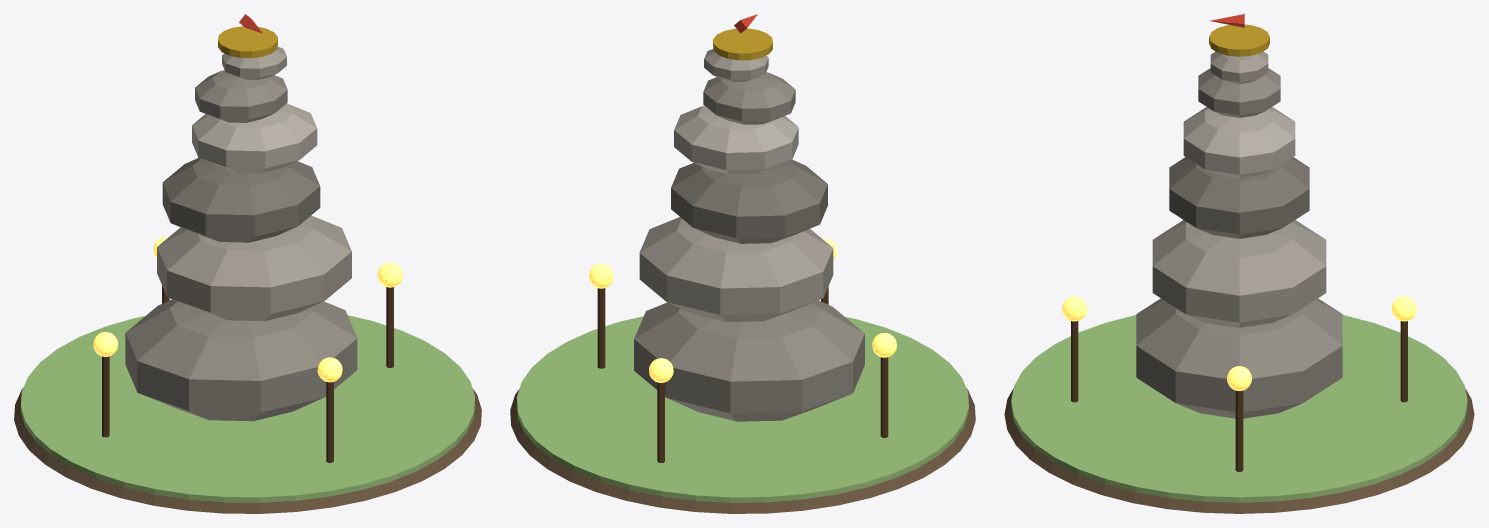
Rendered from wayfinders-cairn.glb.
3 renders of one model, left to right at view 1: azimuth 30°, elevation 25°; view 2: azimuth 150°, elevation 25°; view 3: azimuth 270°, elevation 25°, orthographic.
Visible parts, largest first — view 1: wayfinders-cairn; view 2: wayfinders-cairn; view 3: wayfinders-cairn.
Part boxes in pixels (x1,y1,x2,y2): wayfinders-cairn: [14, 14, 481, 513]; wayfinders-cairn: [510, 14, 975, 513]; wayfinders-cairn: [1004, 14, 1474, 513].
Bounding box in the file's own units: 1.06 × 1 × 1.06.
